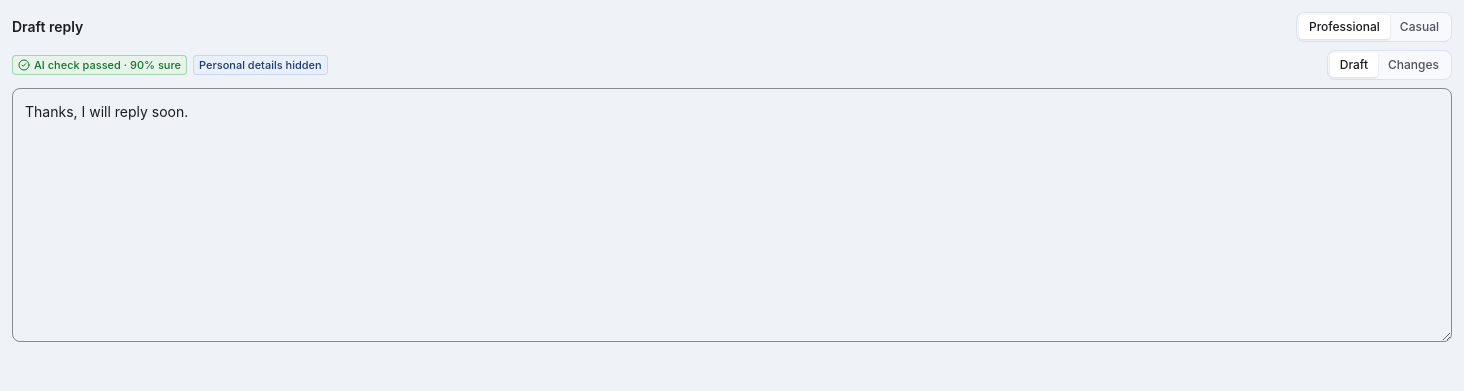
Scenario: the Changes view (#149) › back on Draft, the text box holds the same edits
Replace the text in the text box with "My own words.": (732, 215) left=12, top=88, right=1452, bottom=342
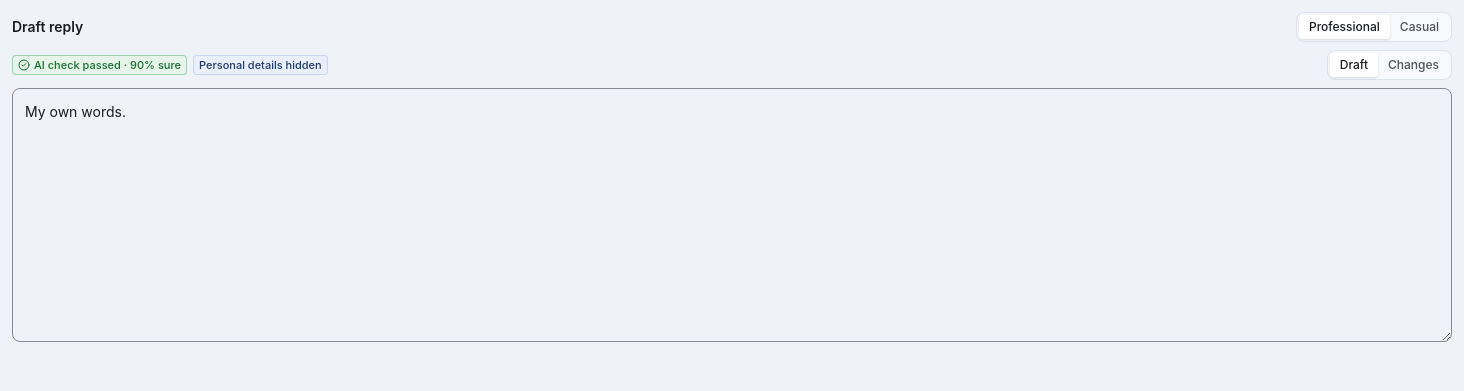
Click the button "Changes": (1414, 65) left=1378, top=53, right=1449, bottom=77
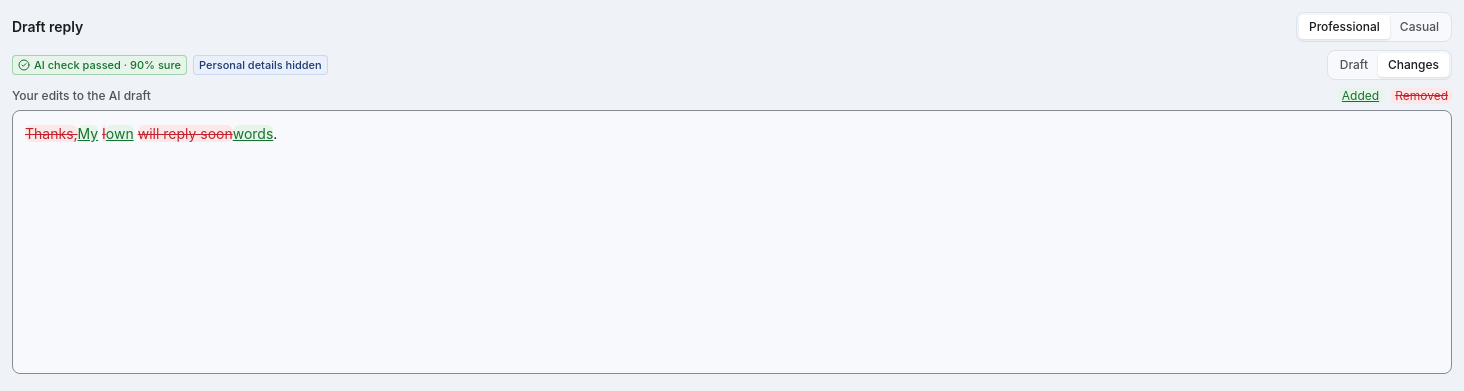
Click the button "Draft": (1354, 65) left=1330, top=53, right=1378, bottom=77
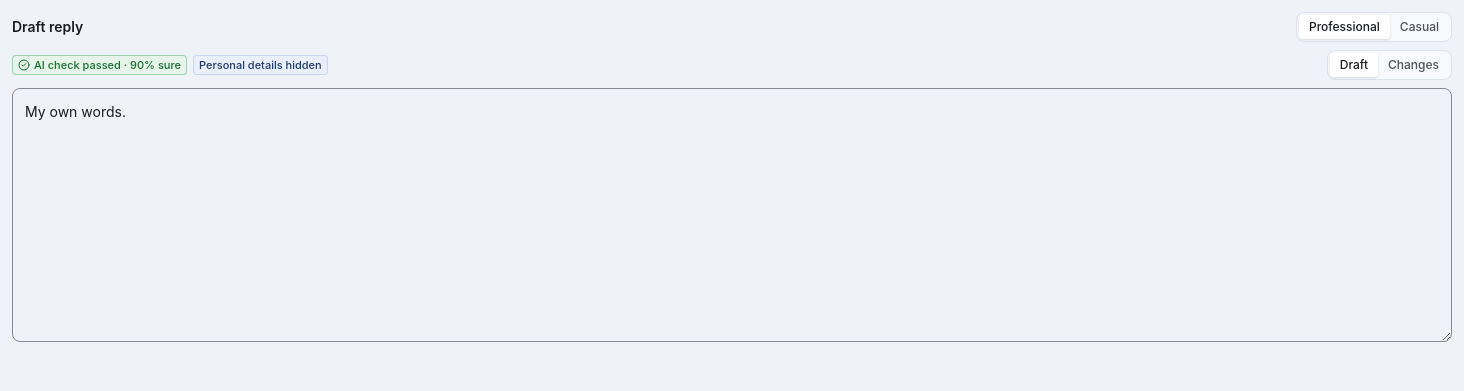
Check: the text box holds "My own words."
